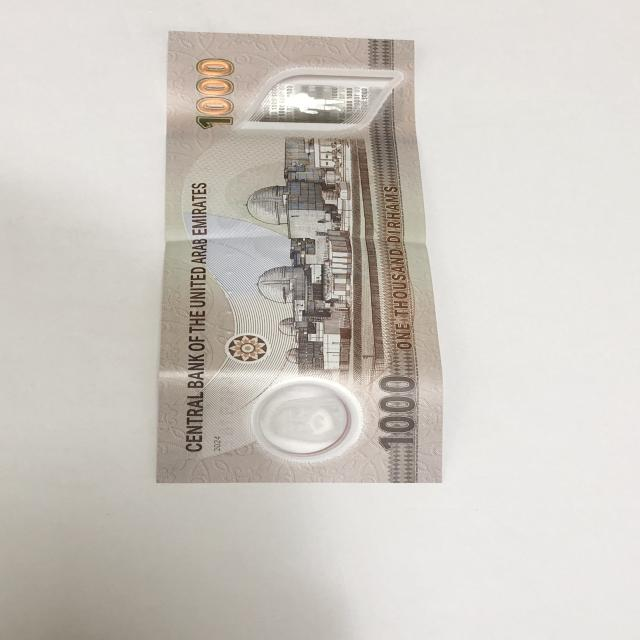1000_AED: (152, 29, 451, 487)
